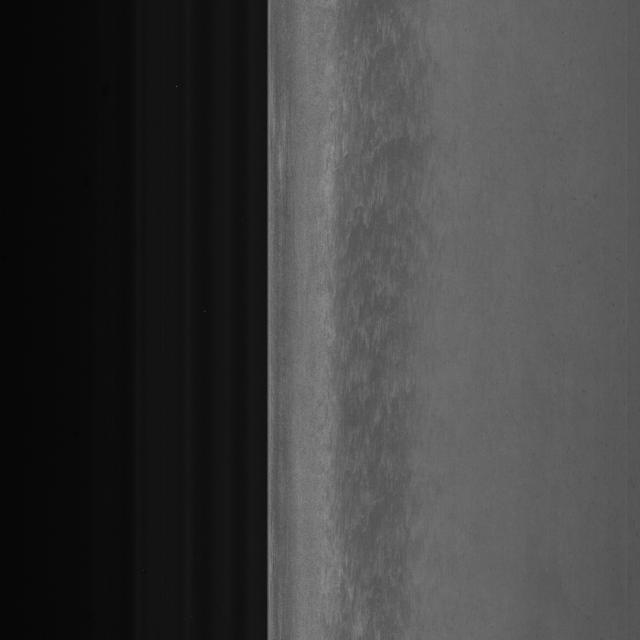inclusion: (329, 37, 455, 586)
